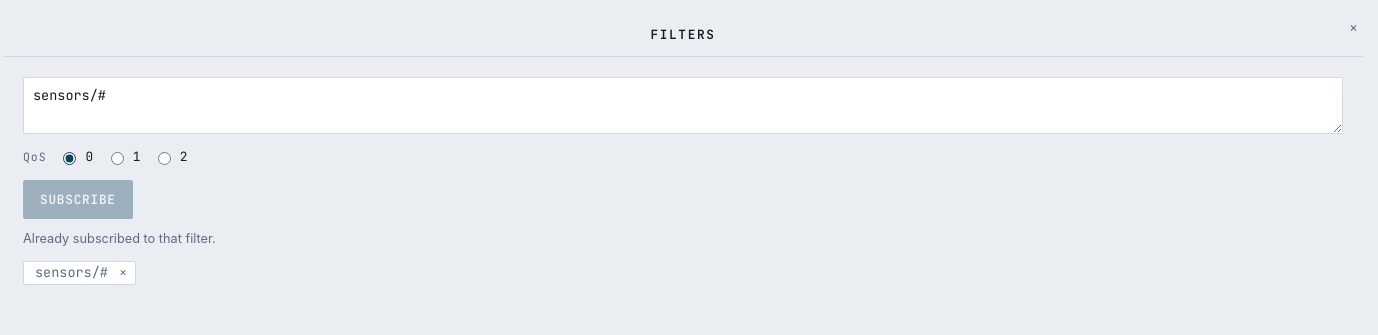
Test: picking a topic into the box › says which filter is still subscribed when the unsubscribe is refused
Click the button named "Unsubscribe from sensors/#". click: [123, 273]
box: top-left (117, 266), bottom-right (129, 280)
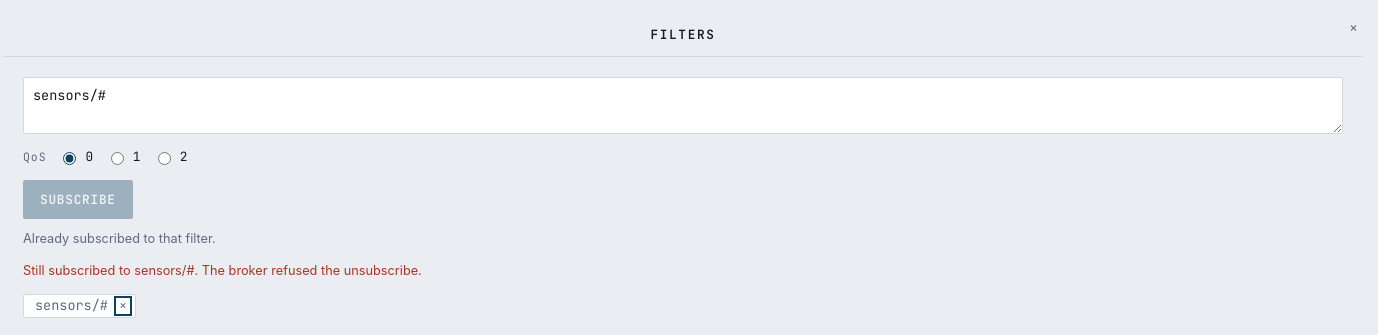
Check: the button "sensors/#" is shown, box top-left (33, 299), bottom-right (110, 312)
Check: the message with test id "unsubscribe-fault" shows "Still subscribed to sensors/#.", box top-left (23, 263), bottom-right (422, 278)
Check: the message with test id "unsubscribe-fault" shows "The broker refused the unsubscribe.", box top-left (202, 263), bottom-right (422, 278)
